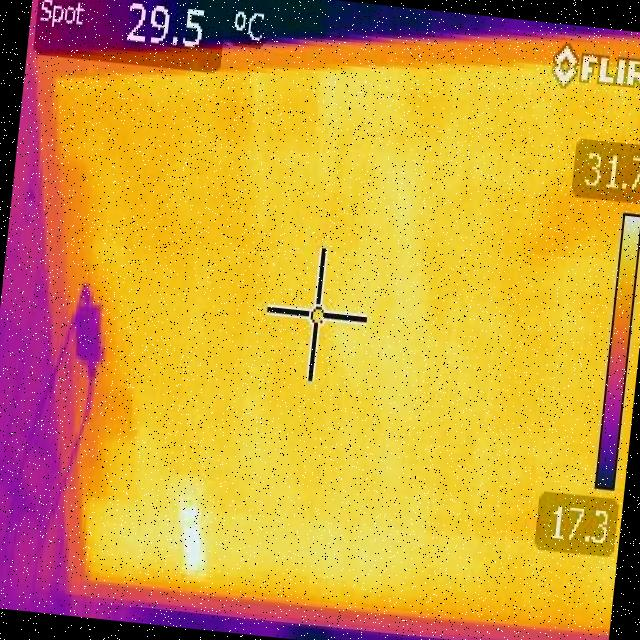Hotspot: (165, 464, 218, 594)
